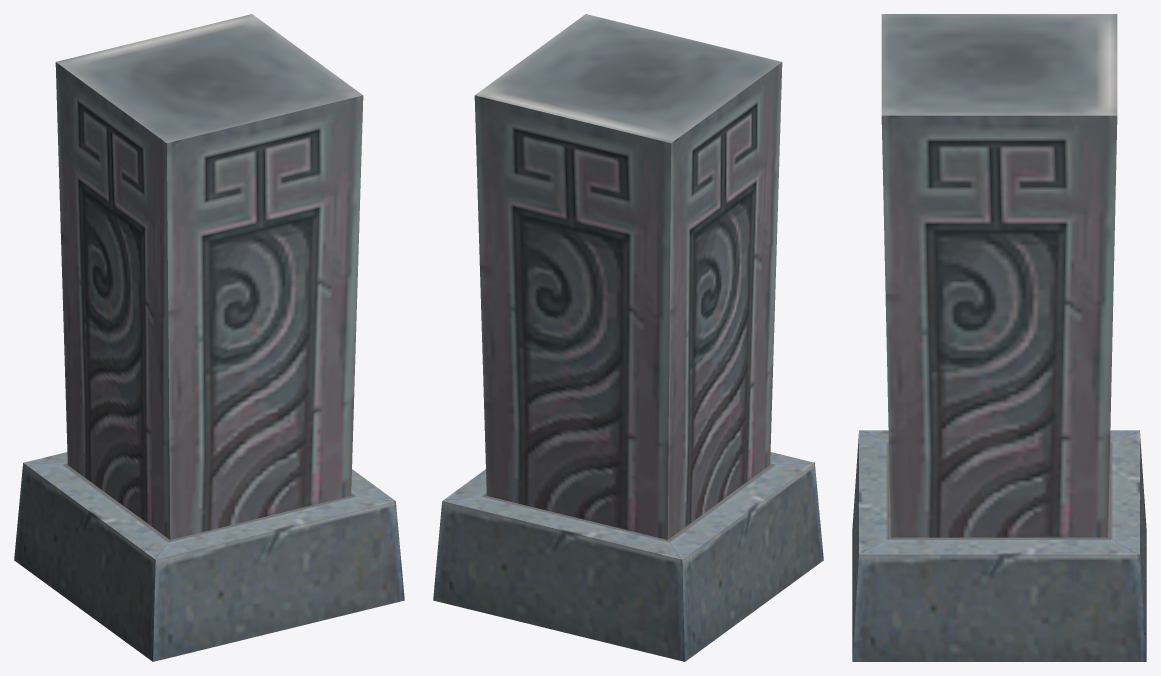
File: FB_boss_dibiao_wujian.FBX
3 renders of one model, left to right at view 1: azimuth 30°, elevation 25°; view 2: azimuth 150°, elevation 25°; view 3: azimuth 270°, elevation 25°, orthographic. The views are drawn at different scales.
Parts seen in each view (by area): view 1: Object05; view 2: Object05; view 3: Object05.
Boxes of the visible parts, bbox=[...] form: Object05: bbox=[14, 14, 404, 661]; Object05: bbox=[433, 14, 823, 661]; Object05: bbox=[852, 14, 1146, 661].
Size of the model in its own units: 1.21 by 2.31 by 1.16.
